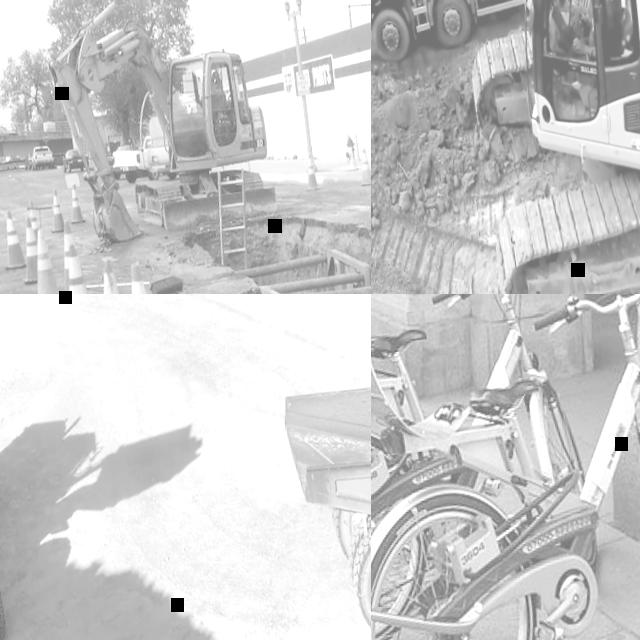NO-Safety Vest: (586, 23, 596, 48)
Person: (553, 0, 602, 90)
Safety Cone: (50, 216, 96, 294), (55, 243, 104, 294), (24, 228, 60, 294), (113, 257, 176, 294), (82, 254, 135, 294), (0, 206, 26, 270), (16, 215, 40, 283), (44, 188, 66, 233), (64, 182, 86, 226), (300, 152, 320, 193), (355, 144, 371, 188), (26, 199, 40, 238)
Safety Vest: (616, 8, 635, 49)
vehicle: (371, 0, 640, 294), (41, 0, 279, 248), (265, 343, 371, 640), (371, 0, 640, 68), (110, 135, 158, 183), (105, 143, 138, 180), (61, 146, 88, 171), (31, 145, 55, 171), (0, 122, 18, 139), (22, 153, 34, 170)
